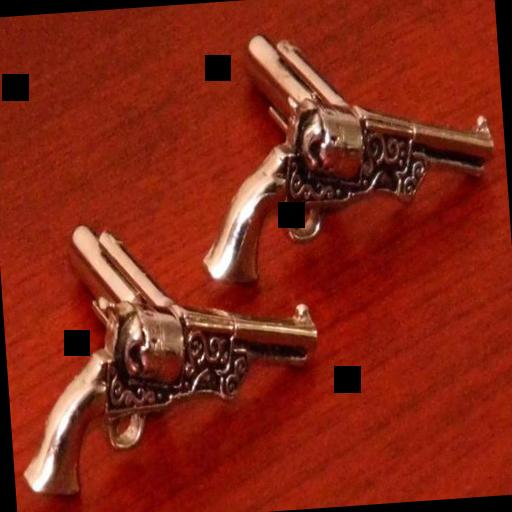Handgun: (6, 262, 330, 511), (184, 67, 505, 300)
